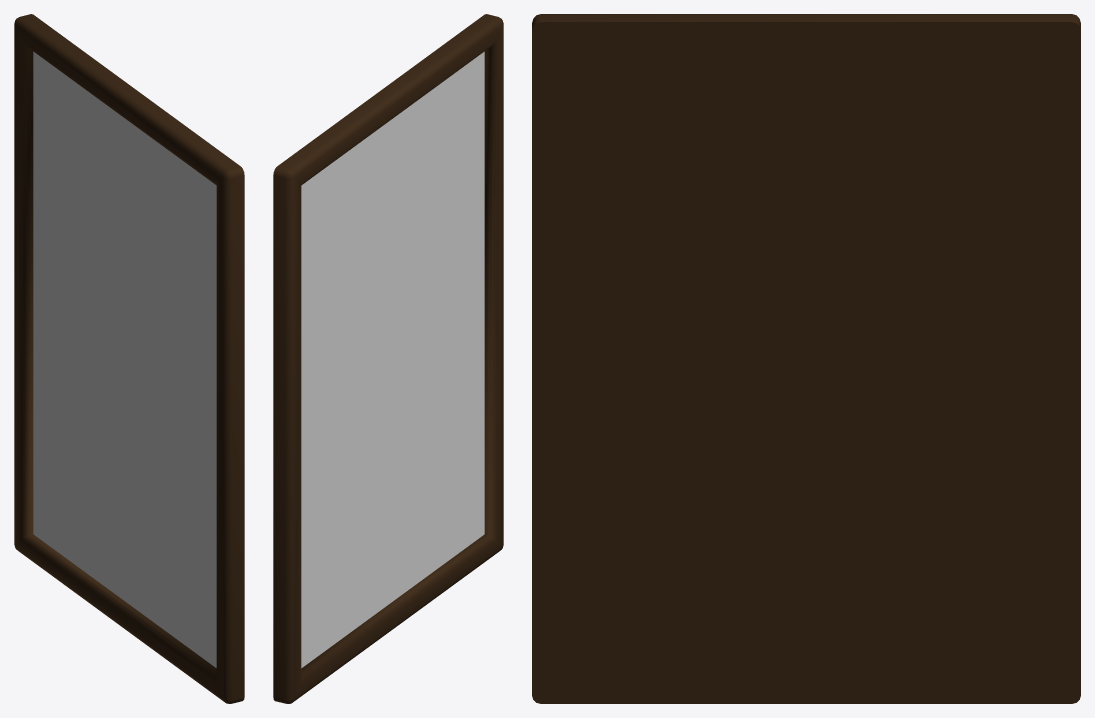
Rendered from Mirror.glb.
3 views of the same model, side by side, from view 1: azimuth 30°, elevation 25°; view 2: azimuth 150°, elevation 25°; view 3: azimuth 270°, elevation 25° (orthographic). The views are drawn at different scales.
Visible parts, largest first — view 1: mirror; view 2: mirror; view 3: mirror.
Boxes of the visible parts, x1,y1,x2,y2 form: mirror: (14,14,244,703); mirror: (273,14,503,703); mirror: (532,14,1080,703).
Size of the model in its own units: 0.155 by 4.42 by 3.22.
